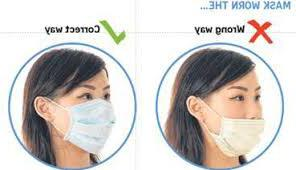mask_weared_incorrect: (209, 83, 265, 146)
with_mask: (65, 82, 113, 139)
